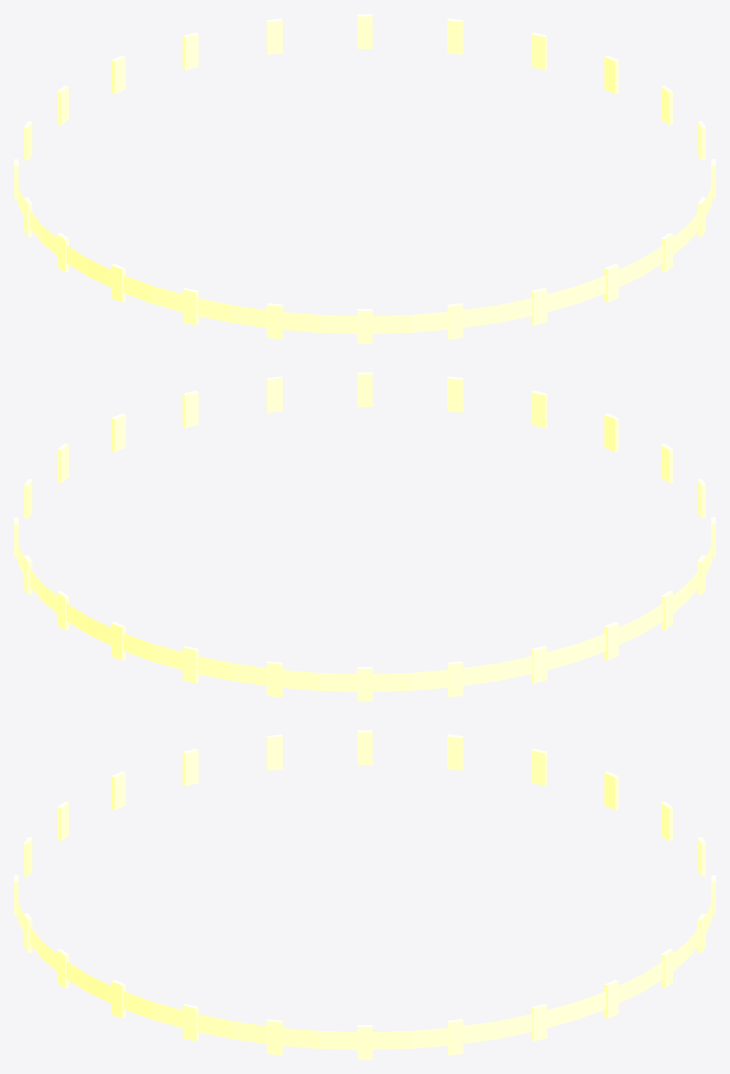
The model's file is gold.glb.
3 renders of one model, top to bottom at view 1: azimuth 30°, elevation 25°; view 2: azimuth 150°, elevation 25°; view 3: azimuth 270°, elevation 25°, orthographic.
Parts seen in each view (by area): view 1: geometry_0; view 2: geometry_0; view 3: geometry_0.
Part boxes in pixels (left/top/right/bottom): geometry_0: left=14, top=14, right=715, bottom=343; geometry_0: left=14, top=372, right=715, bottom=701; geometry_0: left=14, top=730, right=715, bottom=1059.
Size of the model in its own units: 42.58 by 2.2 by 42.58.
